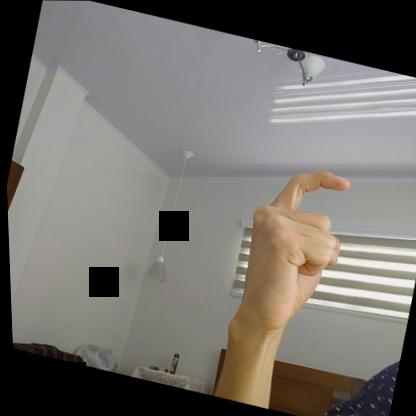X: (219, 150, 361, 350)
